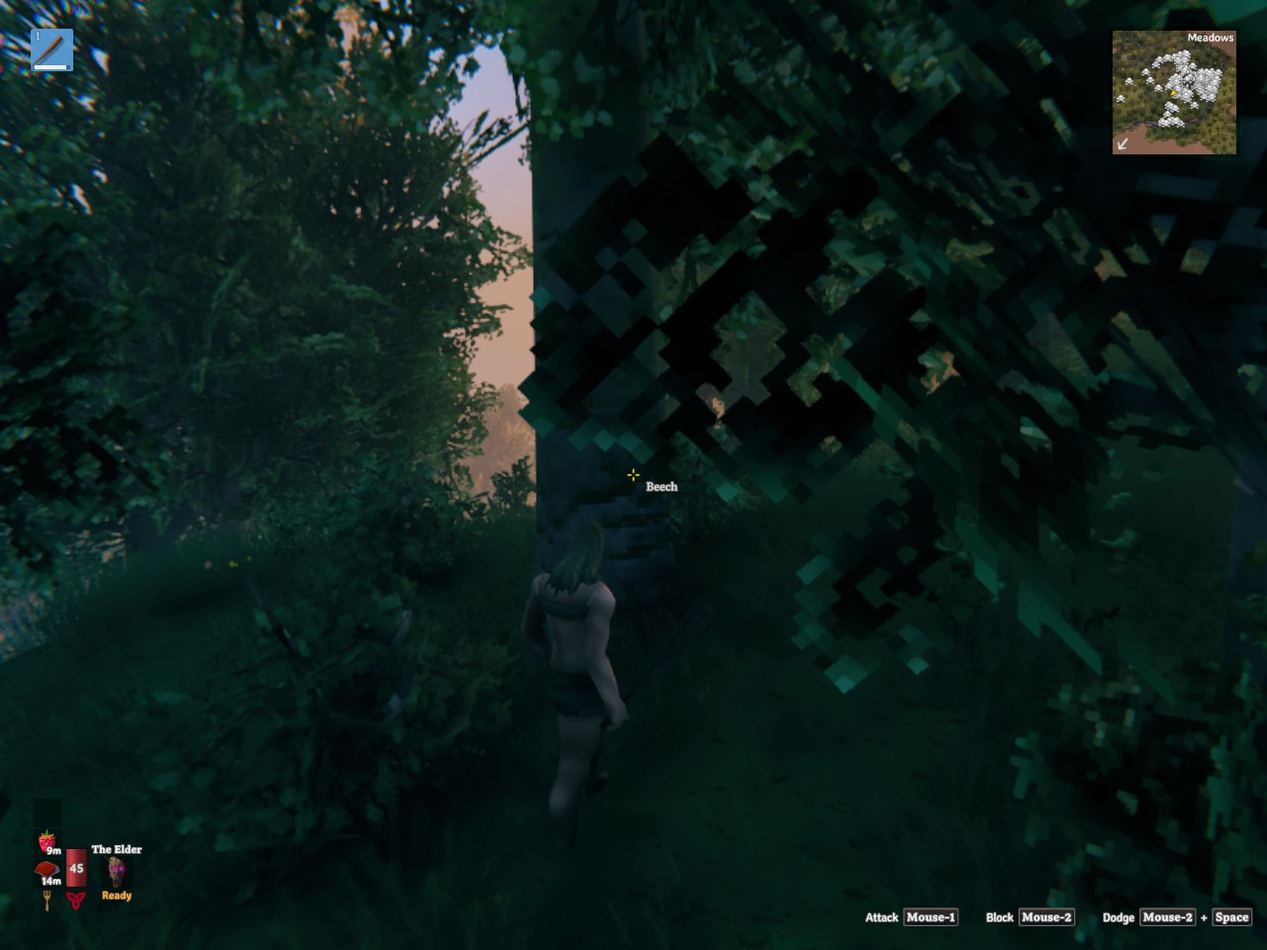Food Indicator: (35, 860, 62, 884), (40, 830, 54, 853)
Health Bar: (65, 848, 87, 888)
Hotbar: (30, 27, 74, 70)
